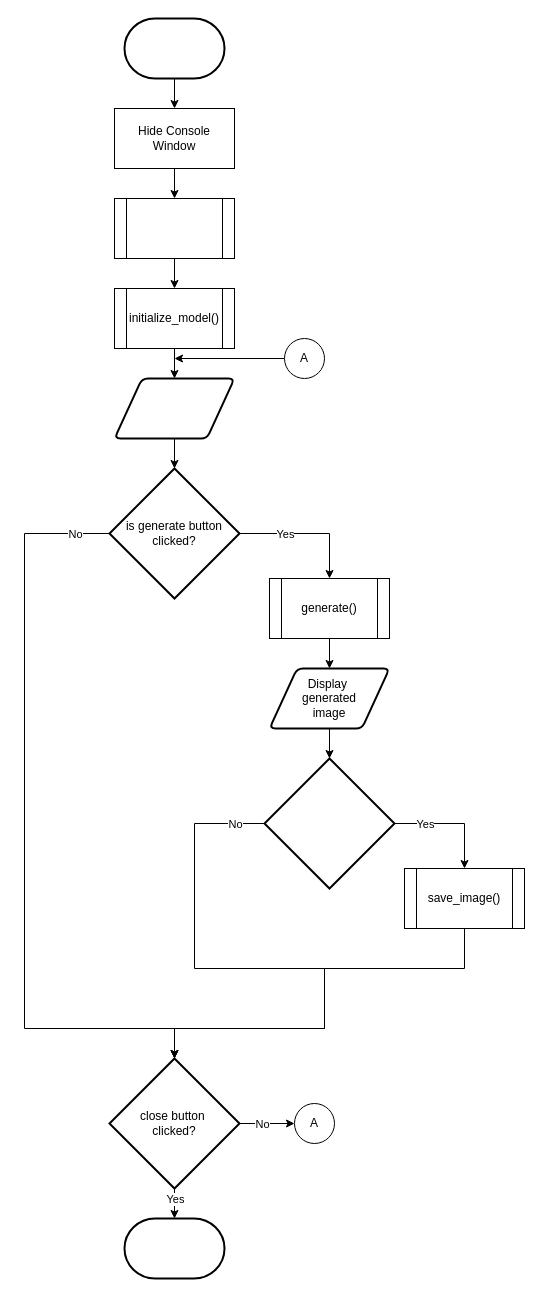
Image size: 542x1296. Some labels were removed from this diagram. The centre of each missing label's shape, as x and y in pixels:
"End" belongs at point 174,1248.
"Input text prompt" belongs at point 174,408.
"is save button clicked?" belongs at point 329,823.
"load_model()" belongs at point 174,228.
"Start" belongs at point 174,48.
